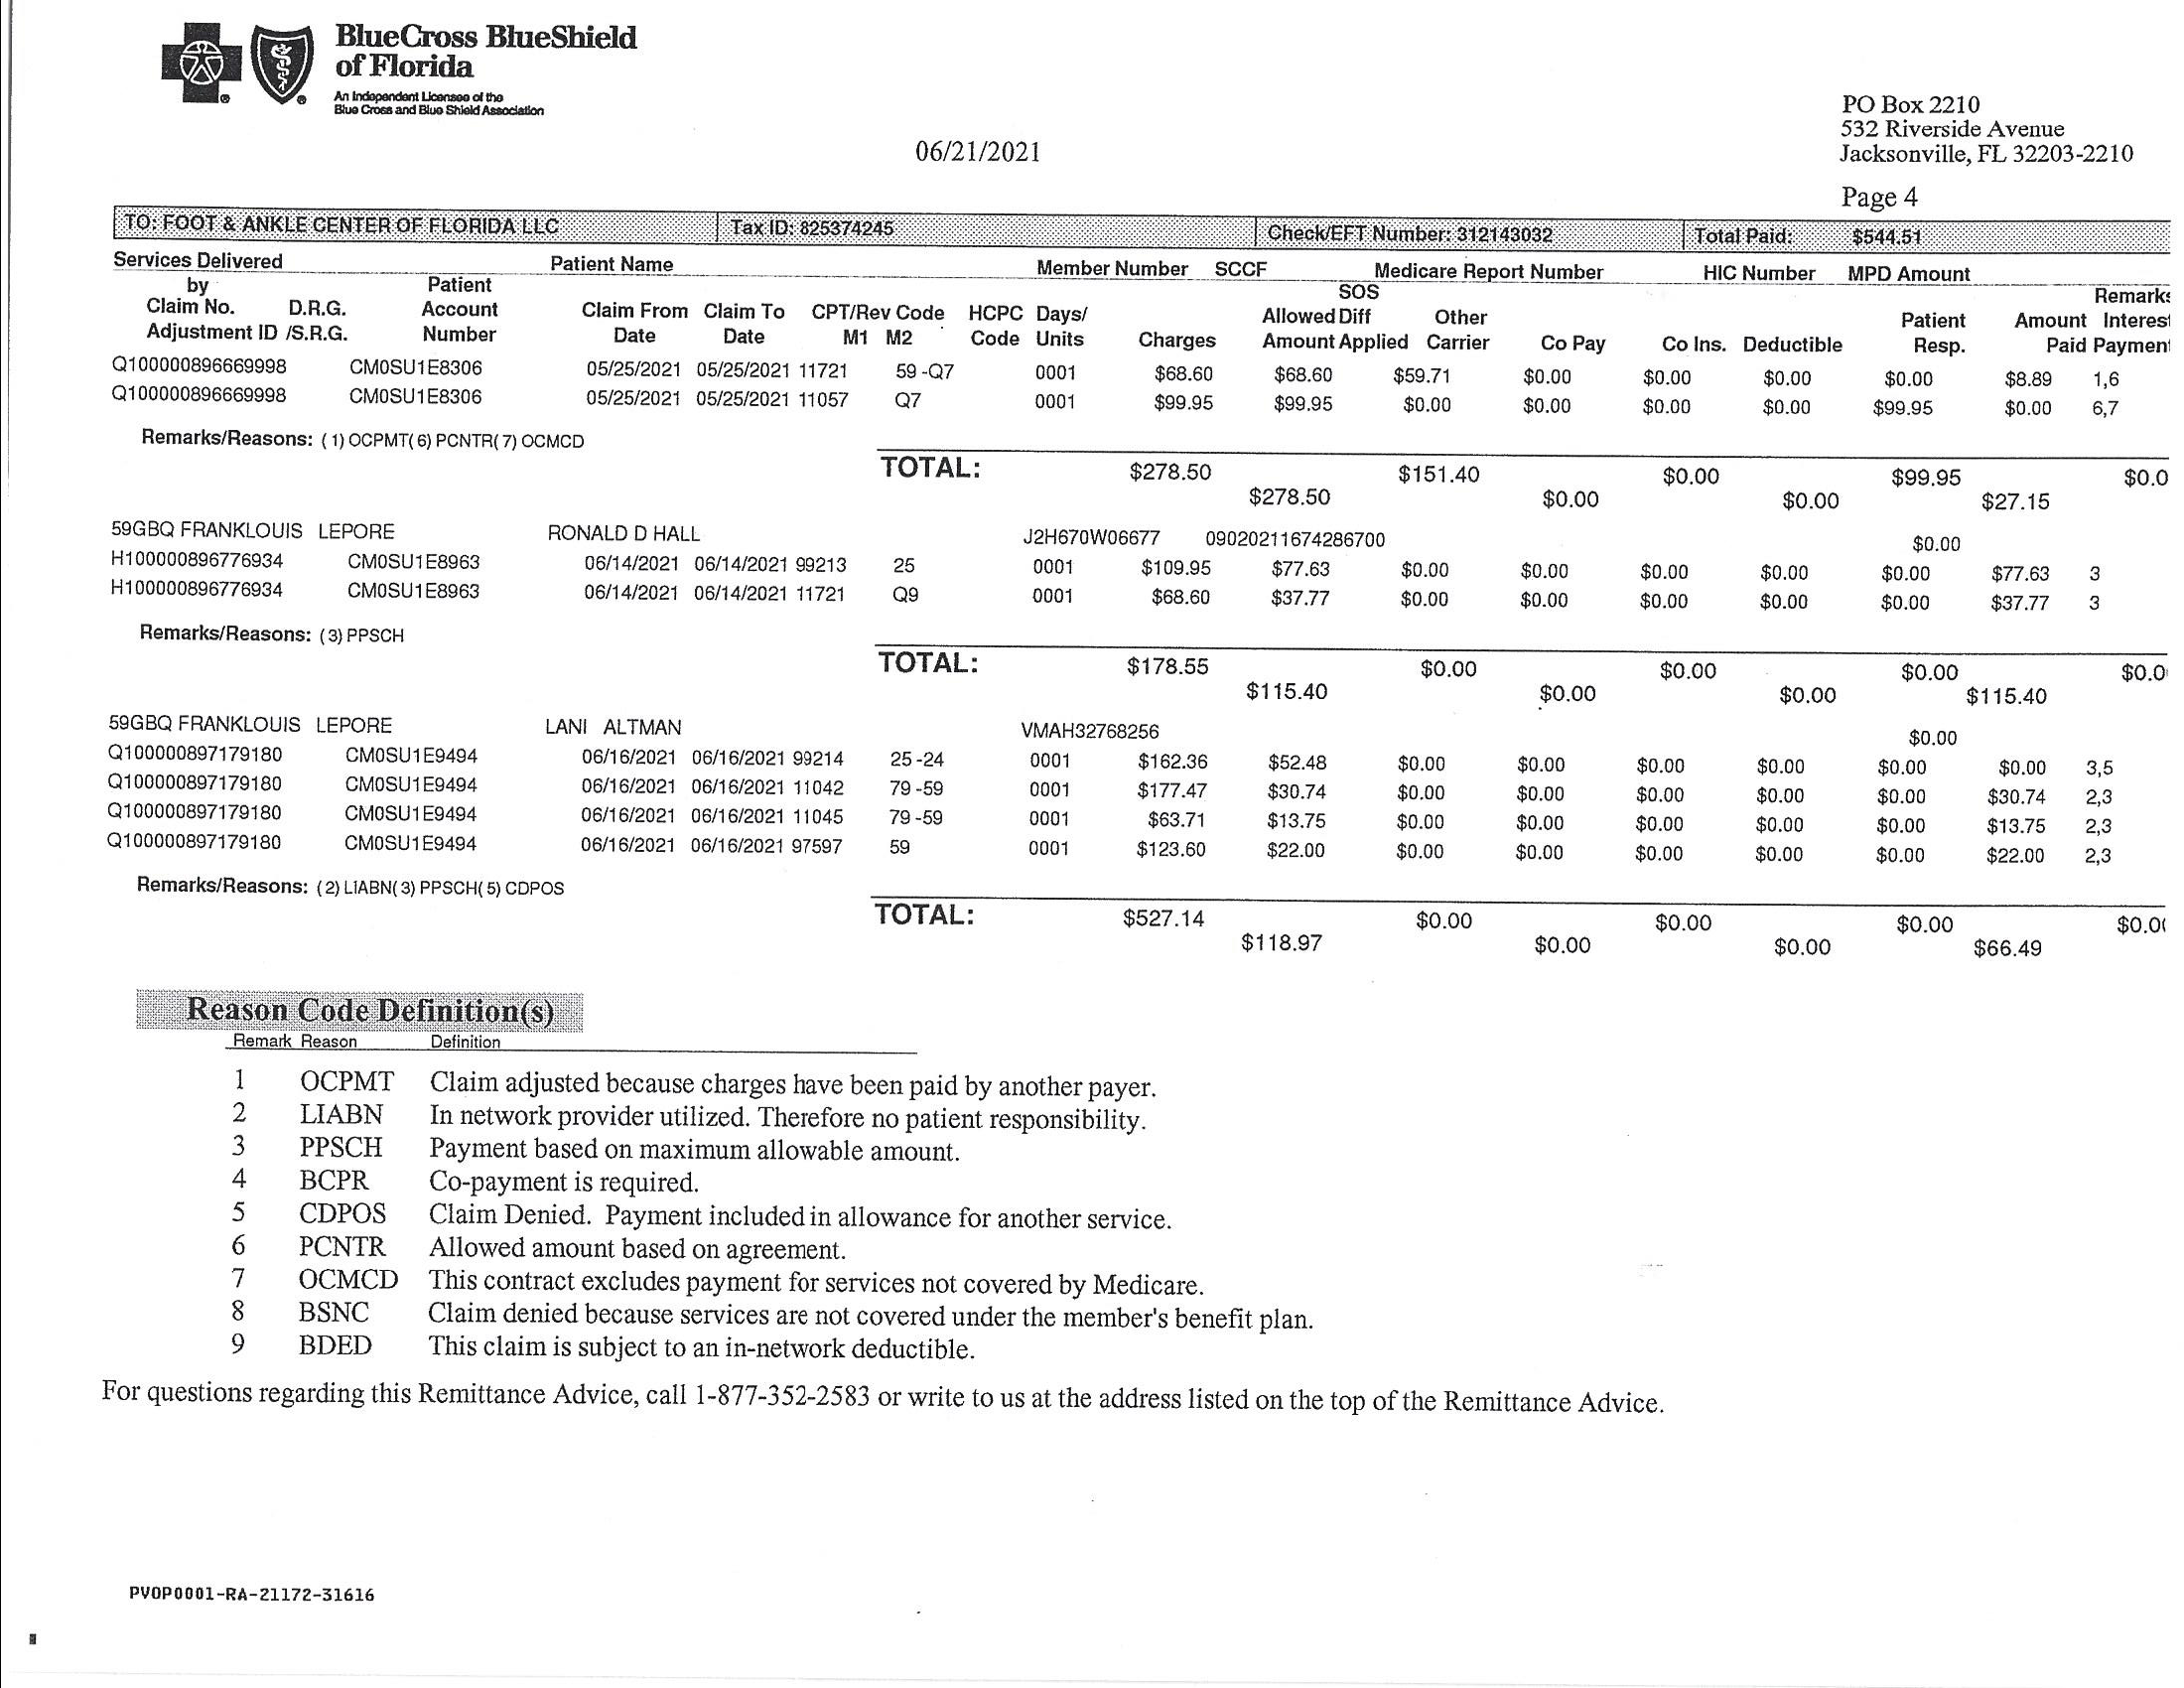table: (97, 241, 2179, 973)
